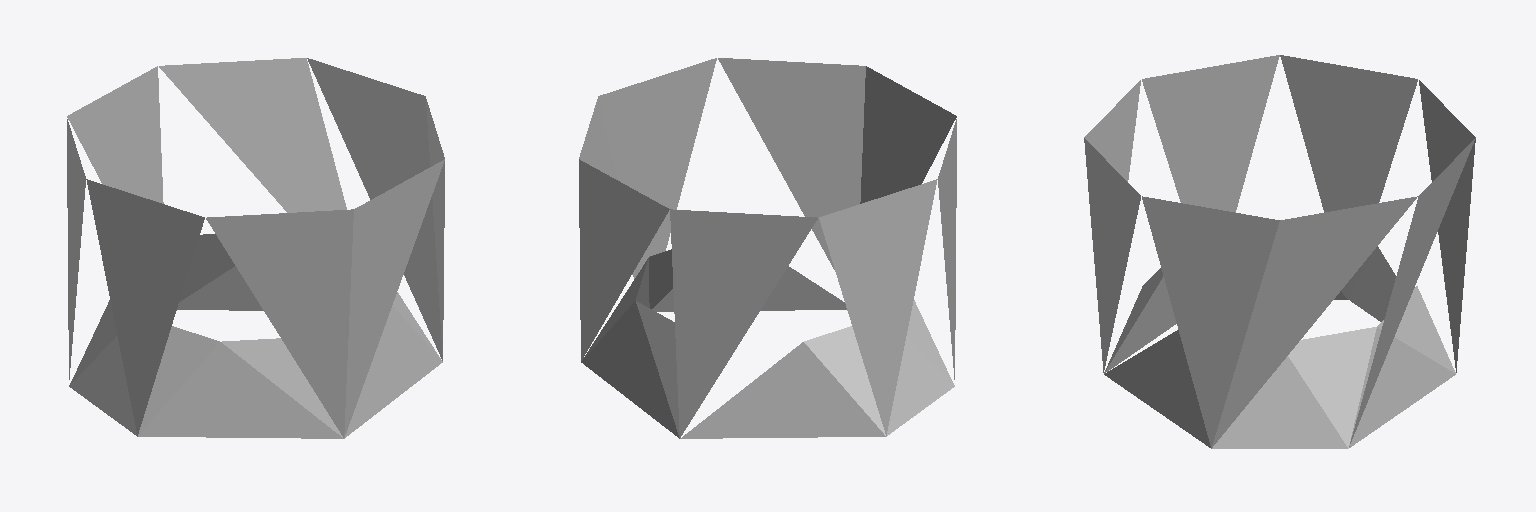
Rendered from simple_crown.obj.
3 renders of one model, left to right at view 1: azimuth 30°, elevation 25°; view 2: azimuth 150°, elevation 25°; view 3: azimuth 270°, elevation 25°, orthographic.
Size of the model in its own units: 60 by 40 by 60.